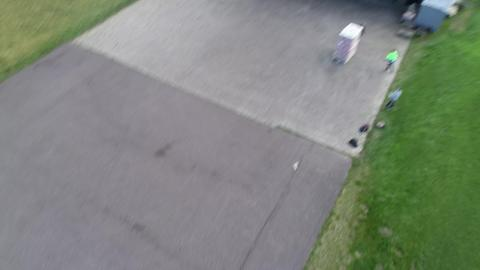RockwoolPallet: (335, 23, 360, 64)
